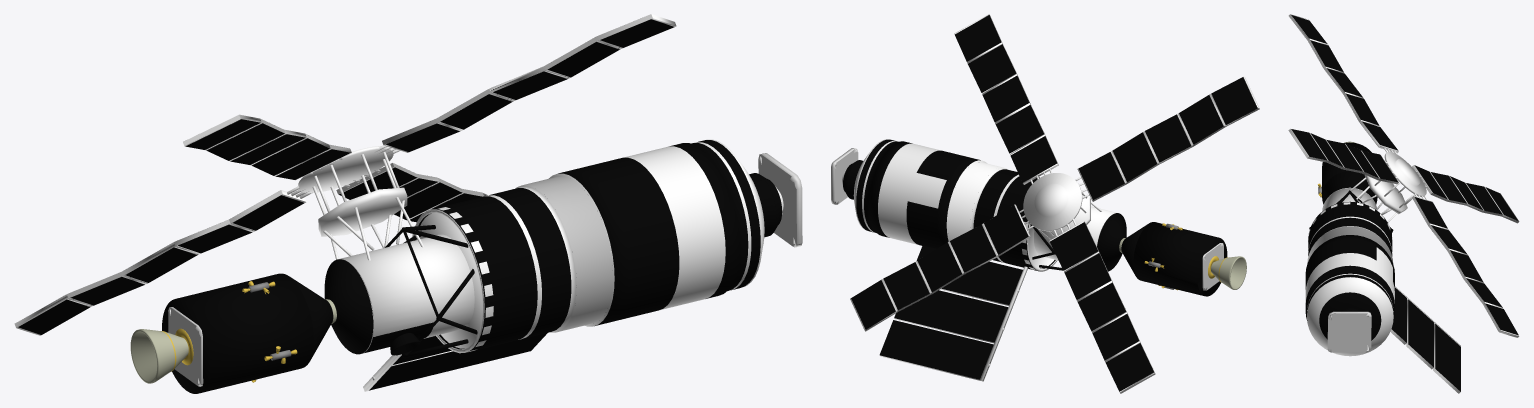
File: skylab.glb
The picture shows the model from 3 angles, left to right: view 1: azimuth 30°, elevation 25°; view 2: azimuth 150°, elevation 25°; view 3: azimuth 270°, elevation 25°; orthographic projection. The views are drawn at different scales.
Visible parts, largest first — view 1: polySurfac; view 2: polySurfac; view 3: polySurfac.
Boxes of the visible parts, x1=… form: polySurfac: x1=14, y1=14, x2=802, y2=393; polySurfac: x1=831, y1=14, x2=1259, y2=393; polySurfac: x1=1288, y1=14, x2=1519, y2=393.
Size of the model in its own units: 100 by 67.63 by 54.95.
